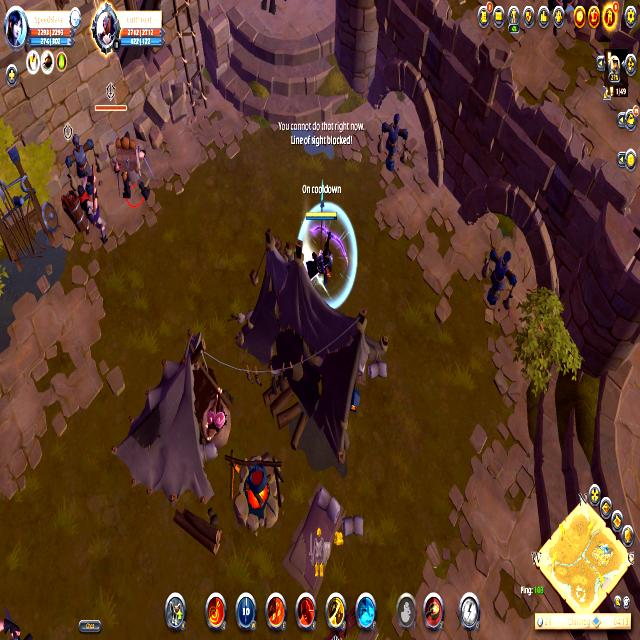ore: (93, 82, 159, 213), (55, 164, 114, 248)
red: (298, 197, 350, 295)
